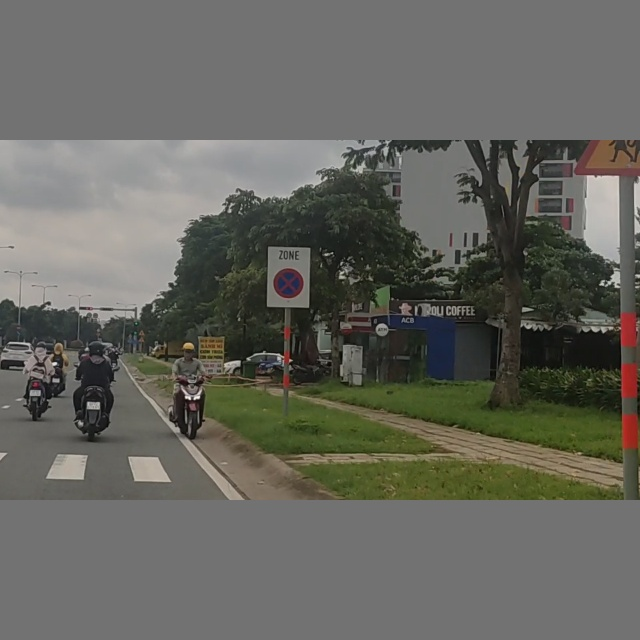P.102: (16, 325, 22, 330)
P.130: (273, 268, 304, 297)
R.302a: (16, 331, 22, 336)
W.225: (575, 141, 640, 176)
